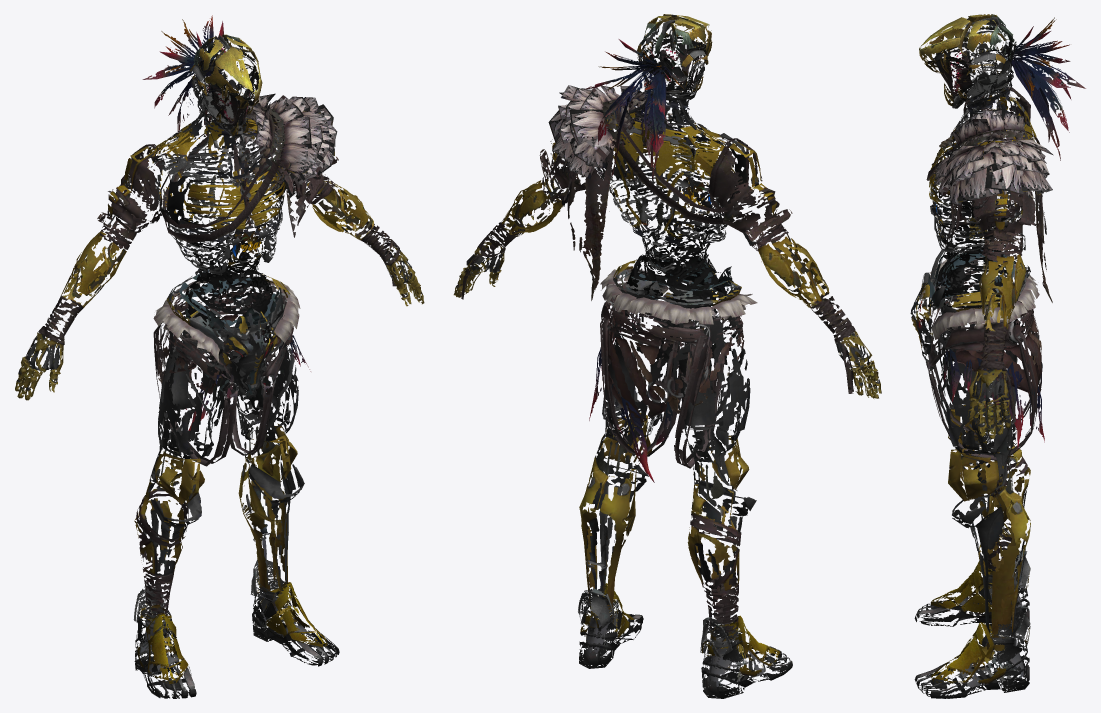
File: Male_Faim.obj
3 renders of one model, left to right at view 1: azimuth 30°, elevation 25°; view 2: azimuth 150°, elevation 25°; view 3: azimuth 270°, elevation 25°, orthographic. The views are drawn at different scales.
Visible parts, largest first — view 1: male_top_cos_faim_male_lobby_top_cos_faim, male_bottom_cos_faim_male_lobby_bottom_cos_faim, male_shoe_cos_faim_male_lobby_shoe_cos_faim, male_head_cos_faim_male_lobby_head_cos_faim; view 2: male_bottom_cos_faim_male_lobby_bottom_cos_faim, male_top_cos_faim_male_lobby_top_cos_faim, male_head_cos_faim_male_lobby_head_cos_faim, male_shoe_cos_faim_male_lobby_shoe_cos_faim; view 3: male_bottom_cos_faim_male_lobby_bottom_cos_faim, male_top_cos_faim_male_lobby_top_cos_faim, male_head_cos_faim_male_lobby_head_cos_faim, male_shoe_cos_faim_male_lobby_shoe_cos_faim.
Part boxes in pixels (x1=…): male_top_cos_faim_male_lobby_top_cos_faim: x1=15, y1=91, x2=424, y2=400; male_bottom_cos_faim_male_lobby_bottom_cos_faim: x1=134, y1=268, x2=323, y2=690; male_shoe_cos_faim_male_lobby_shoe_cos_faim: x1=133, y1=559, x2=339, y2=698; male_head_cos_faim_male_lobby_head_cos_faim: x1=142, y1=15, x2=262, y2=138; male_bottom_cos_faim_male_lobby_bottom_cos_faim: x1=579, y1=248, x2=776, y2=686; male_top_cos_faim_male_lobby_top_cos_faim: x1=453, y1=85, x2=881, y2=398; male_head_cos_faim_male_lobby_head_cos_faim: x1=584, y1=14, x2=712, y2=179; male_shoe_cos_faim_male_lobby_shoe_cos_faim: x1=578, y1=583, x2=792, y2=698; male_bottom_cos_faim_male_lobby_bottom_cos_faim: x1=910, y1=248, x2=1044, y2=690; male_top_cos_faim_male_lobby_top_cos_faim: x1=926, y1=75, x2=1053, y2=439; male_head_cos_faim_male_lobby_head_cos_faim: x1=919, y1=14, x2=1085, y2=160; male_shoe_cos_faim_male_lobby_shoe_cos_faim: x1=914, y1=550, x2=1030, y2=698.
Size of the model in its own units: 3.28 by 4.83 by 1.21.
Materials: 4 (4 with a texture image).
